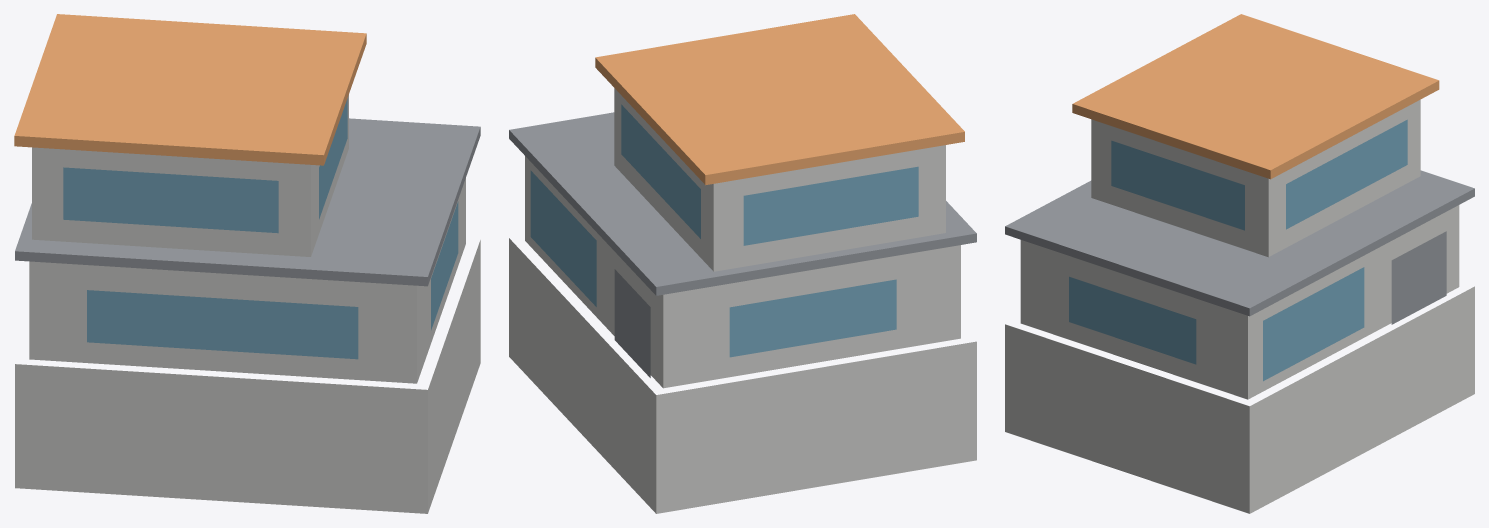
File: house1.glb
3 views of the same model, side by side, from view 1: azimuth 30°, elevation 25°; view 2: azimuth 150°, elevation 25°; view 3: azimuth 270°, elevation 25° (orthographic). The views are drawn at different scales.
Parts seen in each view (by area): view 1: raghave:Mod_Mid_Crossing_South_Villa_01; view 2: raghave:Mod_Mid_Crossing_South_Villa_01; view 3: raghave:Mod_Mid_Crossing_South_Villa_01.
Part boxes in pixels (x1=…): raghave:Mod_Mid_Crossing_South_Villa_01: x1=14, y1=14, x2=480, y2=513; raghave:Mod_Mid_Crossing_South_Villa_01: x1=509, y1=14, x2=976, y2=513; raghave:Mod_Mid_Crossing_South_Villa_01: x1=1005, y1=14, x2=1474, y2=513.
Size of the model in its own units: 42.91 by 29.77 by 42.19.
